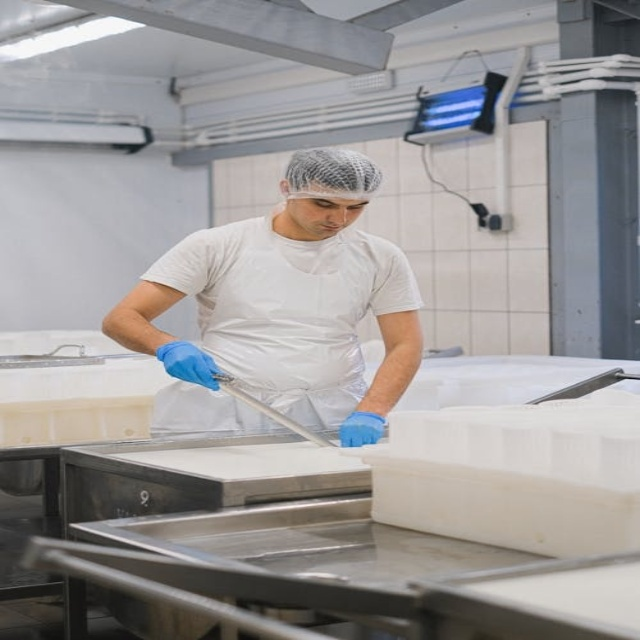Guantes: (157, 341, 224, 390), (338, 411, 387, 447)
Sin_gafas: (315, 199, 337, 209), (347, 202, 368, 210)
Sin_mascara: (318, 224, 343, 231)
